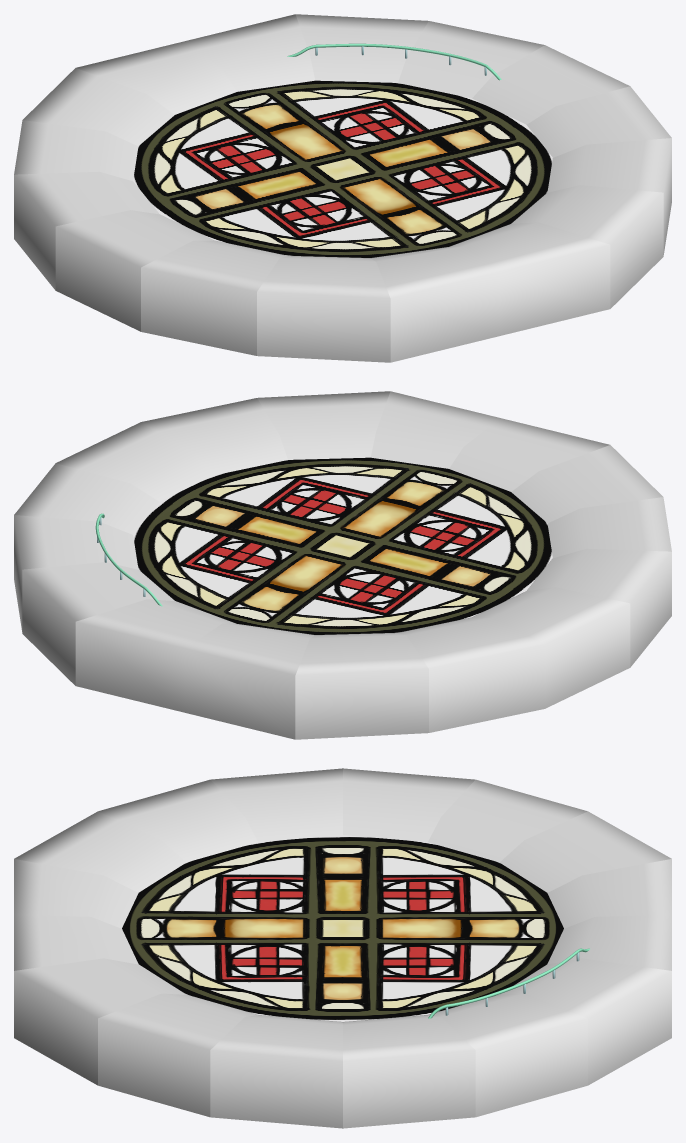
Rendered from ArenaGround.fbx.
3 renders of one model, top to bottom at view 1: azimuth 30°, elevation 25°; view 2: azimuth 150°, elevation 25°; view 3: azimuth 270°, elevation 25°, orthographic. The views are drawn at different scales.
Parts seen in each view (by area): view 1: ArenaGroundCenter, ArenaGroundBorder.003, ArenaGroundBorder.004, ArenaGroundBorder.001, ArenaGroundBorder.002, ArenaGroundBorder.005, ArenaGroundBorder.016, ArenaGroundBorder.006, ArenaGroundBorder.011, ArenaGroundBorder.012, ArenaGroundBorder.008, ArenaGroundBorder.013 (+6 smaller); view 2: ArenaGroundCenter, ArenaGroundBorder.008, ArenaGroundBorder.007, ArenaGroundBorder.010, ArenaGroundBorder.009, ArenaGroundBorder.006, ArenaGroundBorder.011, ArenaGroundBorder.005, ArenaGroundBorder.016, ArenaGroundBorder.015, ArenaGroundBorder.001, ArenaGroundBorder.014 (+5 smaller); view 3: ArenaGroundCenter, ArenaGroundBorder.014, ArenaGroundBorder.013, ArenaGroundBorder.015, ArenaGroundBorder.012, ArenaGroundBorder.016, ArenaGroundBorder.011, ArenaGroundBorder.005, ArenaGroundBorder.006, ArenaGroundBorder.004, ArenaGroundBorder.007, ArenaGroundBorder.003 (+6 smaller).
Boxes of the visible parts, box(x1,y1,x2,y2) form: ArenaGroundCenter: box(133, 80, 552, 258); ArenaGroundBorder.003: box(257, 256, 390, 362); ArenaGroundBorder.004: box(141, 240, 287, 355); ArenaGroundBorder.001: box(450, 222, 610, 335); ArenaGroundBorder.002: box(371, 246, 500, 362); ArenaGroundBorder.005: box(55, 210, 213, 331); ArenaGroundBorder.016: box(511, 185, 663, 308); ArenaGroundBorder.006: box(14, 171, 158, 290); ArenaGroundBorder.011: box(295, 14, 428, 82); ArenaGroundBorder.012: box(398, 21, 544, 98); ArenaGroundBorder.008: box(23, 68, 174, 146); ArenaGroundBorder.013: box(472, 45, 629, 124); ArenaGroundCenter: box(133, 457, 552, 635); ArenaGroundBorder.008: box(295, 633, 428, 739); ArenaGroundBorder.007: box(398, 617, 544, 732); ArenaGroundBorder.010: box(75, 599, 235, 712); ArenaGroundBorder.009: box(185, 623, 314, 739); ArenaGroundBorder.006: box(472, 587, 630, 708); ArenaGroundBorder.011: box(22, 562, 174, 685); ArenaGroundBorder.005: box(527, 548, 671, 667); ArenaGroundBorder.016: box(257, 391, 390, 459); ArenaGroundBorder.015: box(141, 398, 287, 475); ArenaGroundBorder.001: box(370, 391, 499, 468); ArenaGroundBorder.014: box(56, 422, 213, 501); ArenaGroundCenter: box(122, 835, 563, 1022); ArenaGroundBorder.014: box(210, 1015, 342, 1128); ArenaGroundBorder.013: box(343, 1015, 475, 1128); ArenaGroundBorder.015: box(98, 993, 257, 1117); ArenaGroundBorder.012: box(428, 993, 587, 1117); ArenaGroundBorder.016: box(14, 958, 186, 1085); ArenaGroundBorder.011: box(499, 958, 671, 1085); ArenaGroundBorder.005: box(211, 768, 342, 842); ArenaGroundBorder.006: box(343, 768, 474, 842); ArenaGroundBorder.004: box(98, 779, 257, 862); ArenaGroundBorder.007: box(428, 779, 587, 862); ArenaGroundBorder.003: box(14, 811, 185, 892).
Bounding box in the file's own units: 71.4 × 67.77 × 8.73.
